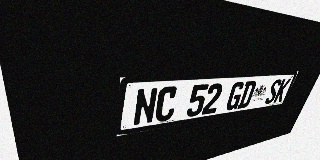2: (201, 83, 224, 115)
5: (186, 84, 209, 117)
C: (154, 86, 179, 123)
D: (237, 81, 257, 109)
G: (225, 81, 246, 111)
K: (273, 78, 291, 103)
N: (133, 87, 159, 126)
S: (264, 79, 283, 104)
